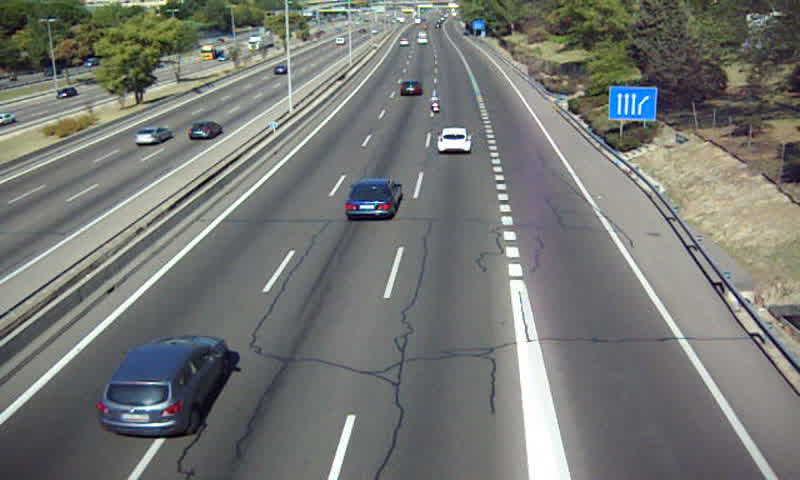car: (97, 337, 227, 436), (346, 178, 402, 220), (438, 127, 471, 154), (400, 80, 424, 96)
motorcycle: (428, 94, 442, 117)
